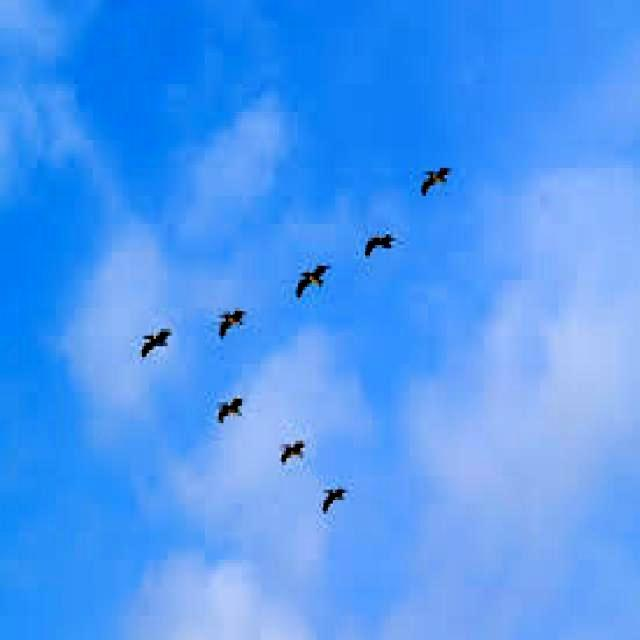bird: (351, 213, 406, 264), (288, 248, 336, 302), (213, 292, 255, 352), (414, 154, 461, 203), (210, 383, 258, 427), (136, 320, 174, 369), (276, 424, 315, 468), (319, 472, 352, 518)
